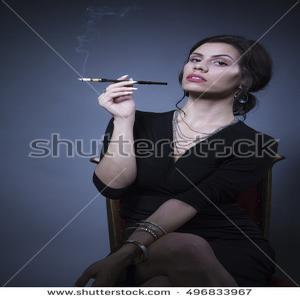cigarette: (76, 76, 108, 87)
